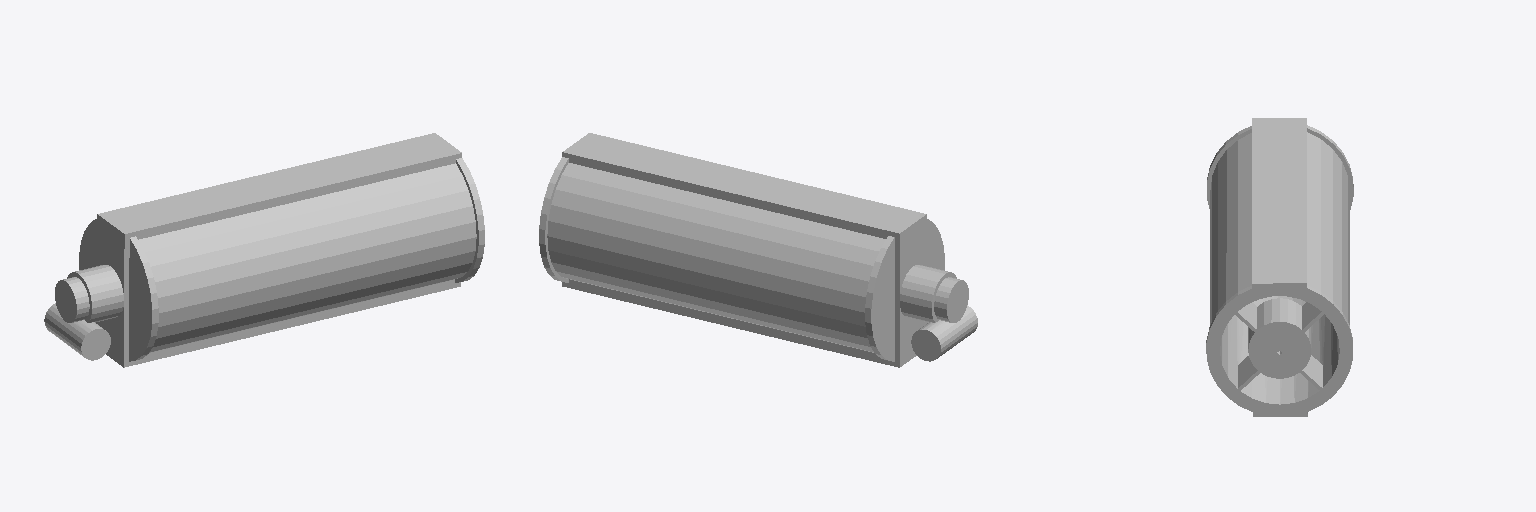
Rendered from RitcheyChretienAltAz.obj.
The picture shows the model from 3 angles: view 1: azimuth 30°, elevation 25°; view 2: azimuth 150°, elevation 25°; view 3: azimuth 270°, elevation 25°; orthographic projection.
Visible parts, largest first — view 1: Body2.001; view 2: Body2.001; view 3: Body2.001.
Part boxes in pixels (bbox=[...]): Body2.001: bbox=[44, 133, 484, 367]; Body2.001: bbox=[539, 133, 977, 367]; Body2.001: bbox=[1206, 118, 1353, 416].
Size of the model in its own units: 677 by 227 by 224.